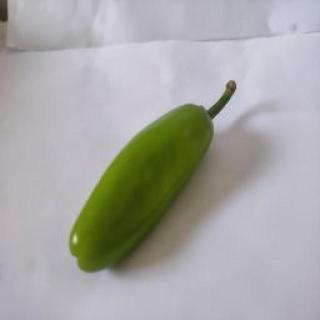Cabai Hijau: (61, 77, 243, 279)
